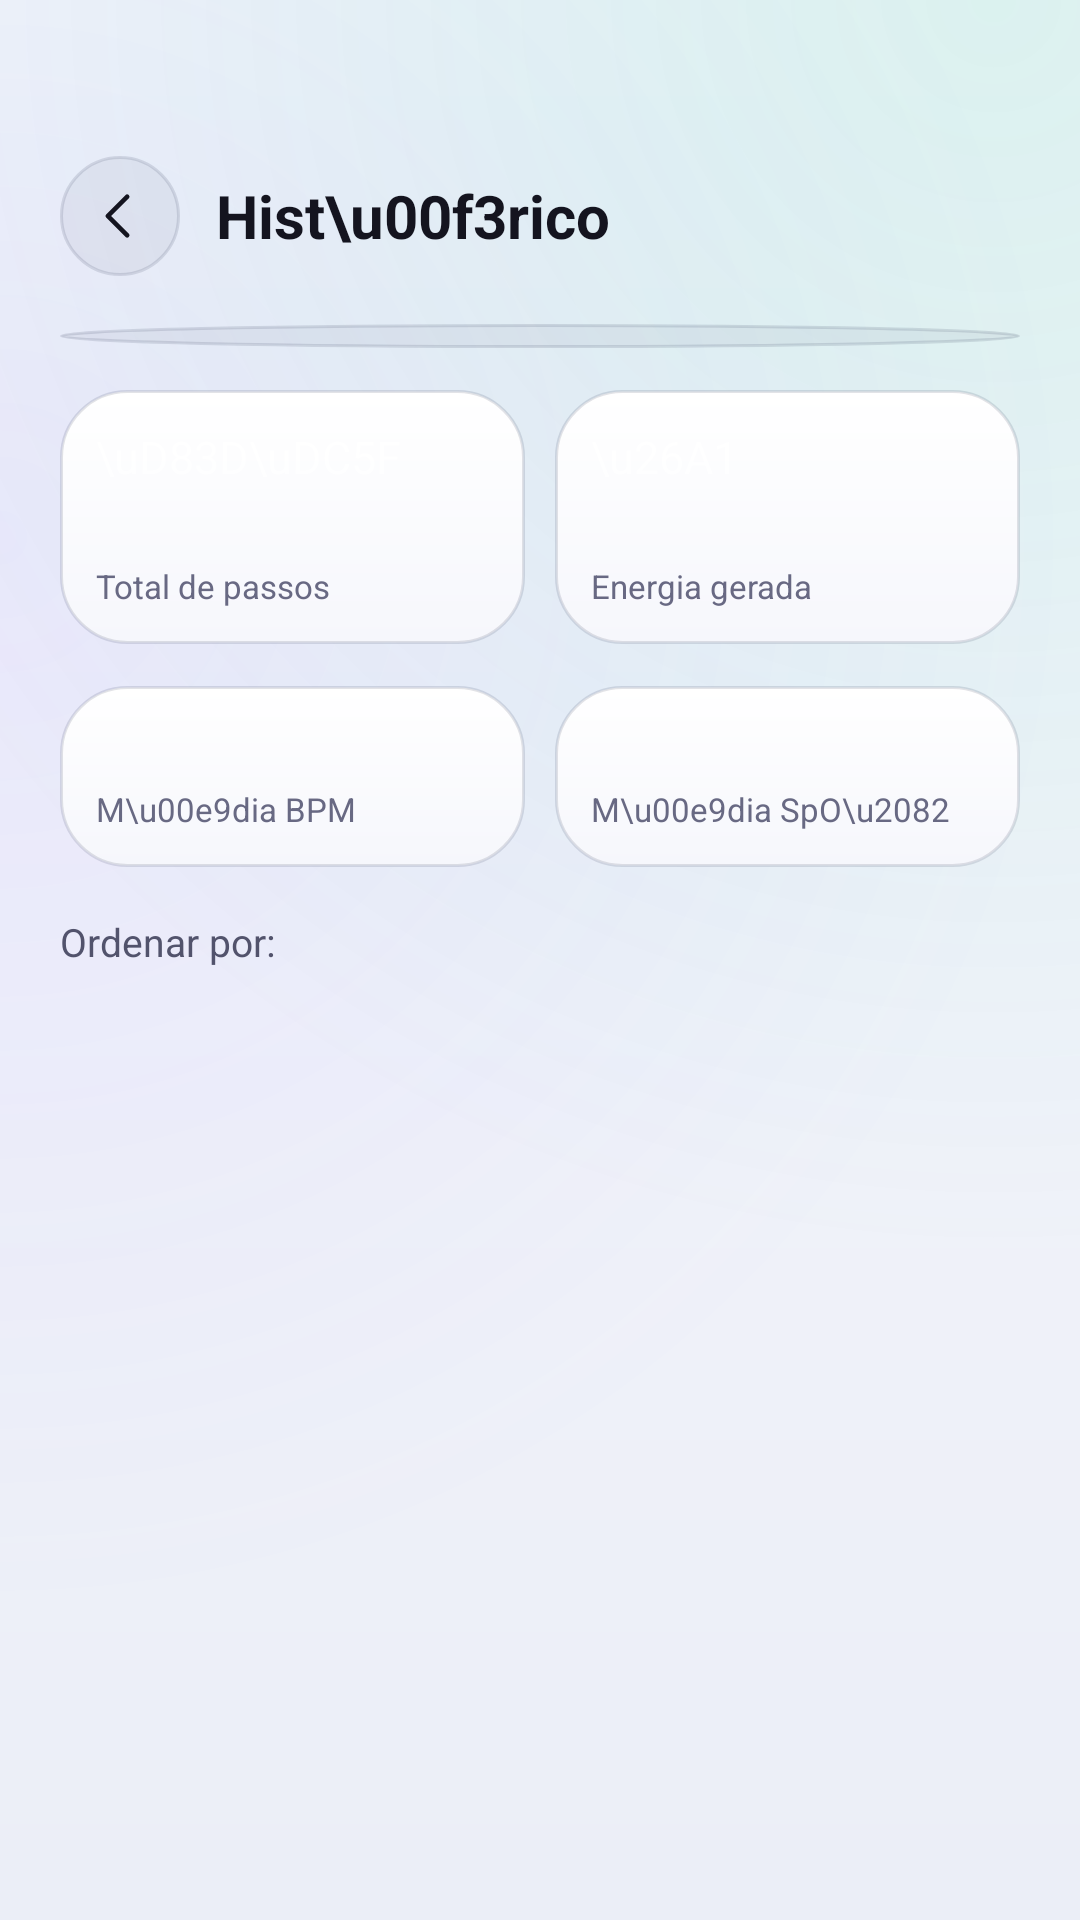

Point at icon controls on the screen. Image size 1080×1920, points as point (x, y).
back: point (120, 216)
